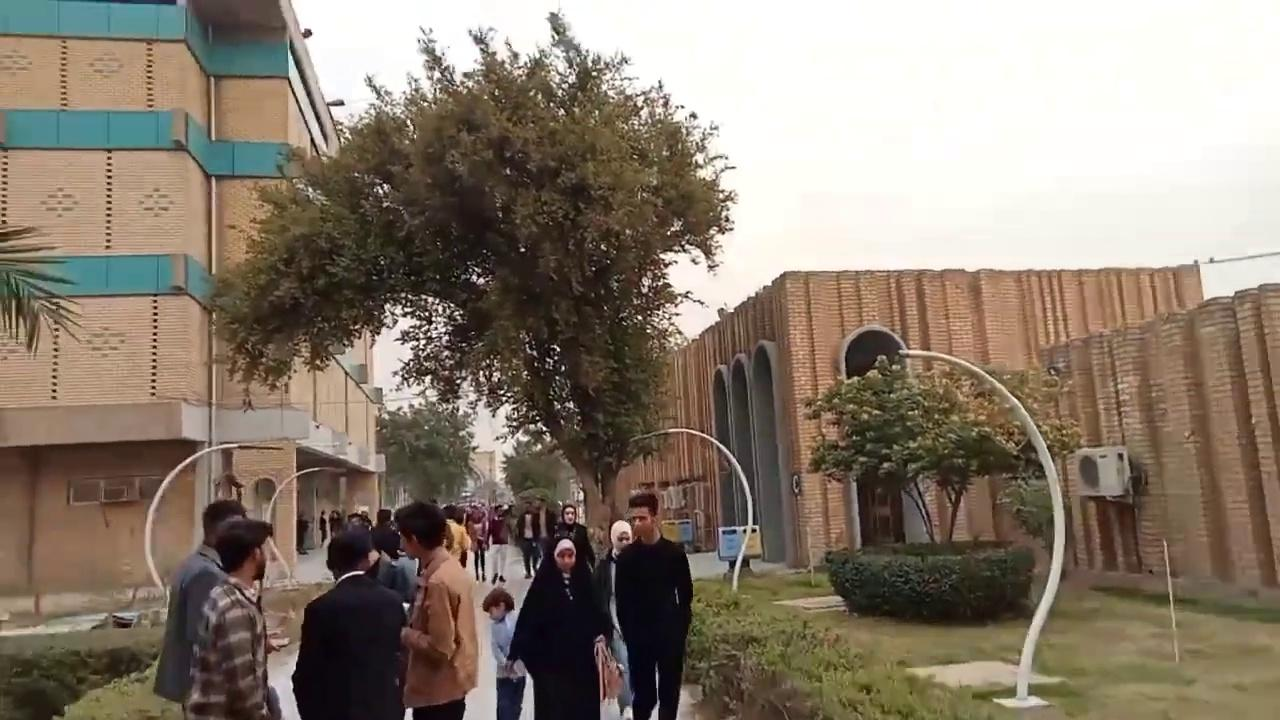person: (290, 525, 409, 719), (183, 517, 285, 719), (506, 537, 616, 719), (394, 501, 479, 719), (614, 491, 694, 719), (481, 587, 526, 719)
tree: (206, 6, 738, 553), (801, 350, 1079, 548), (0, 606, 170, 718), (824, 538, 1035, 622), (996, 415, 1084, 578), (0, 218, 89, 358), (375, 398, 481, 506), (499, 440, 568, 511)
